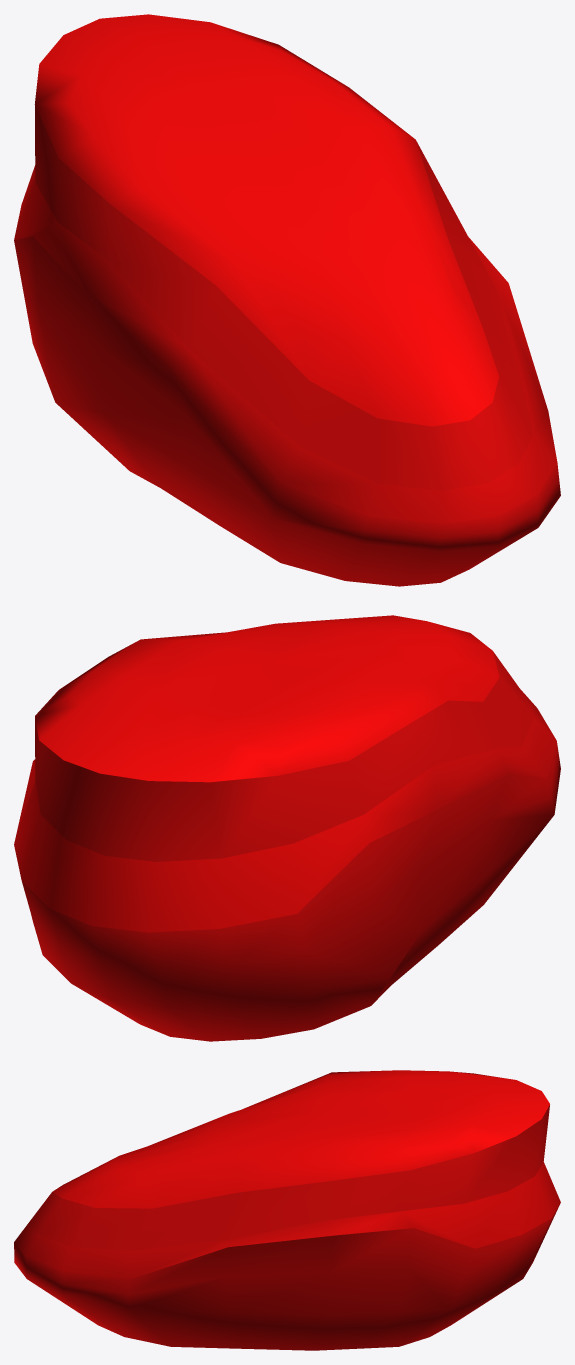
File: geology-rocks-whiterock_v5.fbx
3 renders of one model, top to bottom at view 1: azimuth 30°, elevation 25°; view 2: azimuth 150°, elevation 25°; view 3: azimuth 270°, elevation 25°, orthographic. The views are drawn at different scales.
Visible parts, largest first — view 1: WhiteRock_v5; view 2: WhiteRock_v5; view 3: WhiteRock_v5.
Part boxes in pixels (<box>): WhiteRock_v5: <box>14,14,560,586</box>; WhiteRock_v5: <box>14,615,560,1041</box>; WhiteRock_v5: <box>14,1070,560,1350</box>.
Size of the model in its own units: 4.78 by 4.75 by 9.48.
